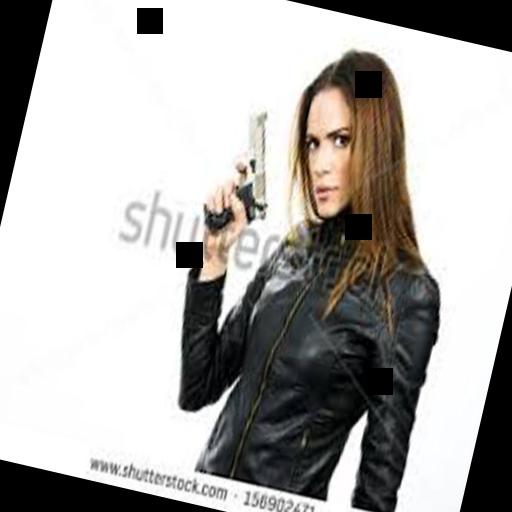Handgun: (195, 96, 289, 238)
